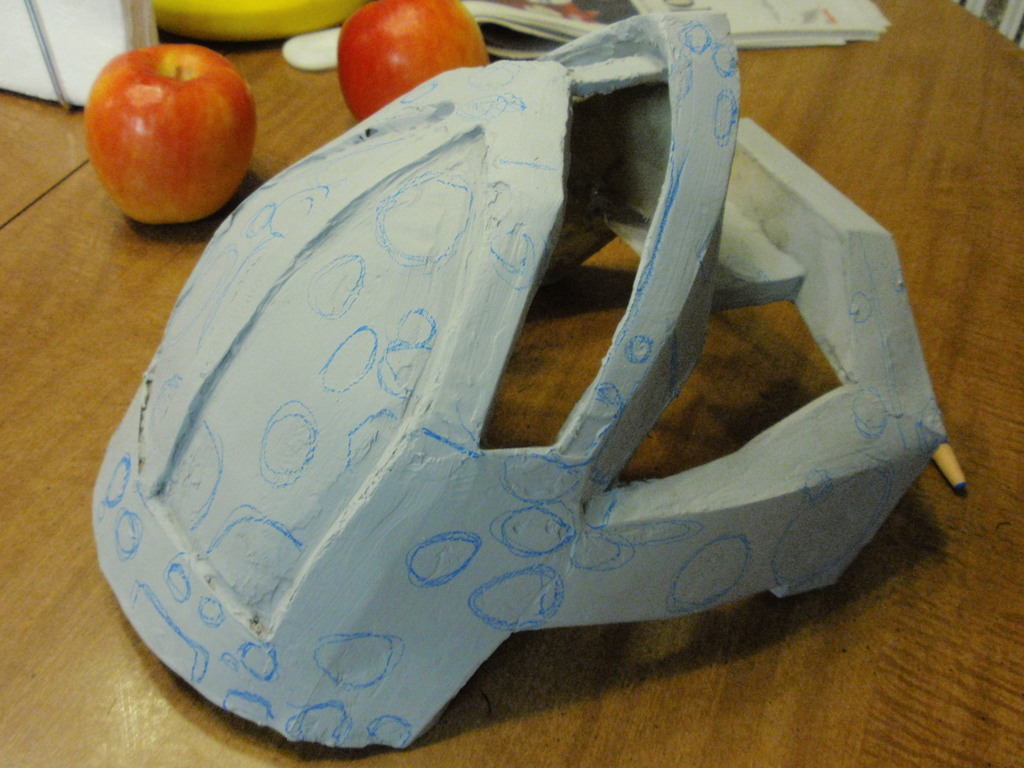Apple: (81, 38, 256, 224), (339, 0, 485, 124)
